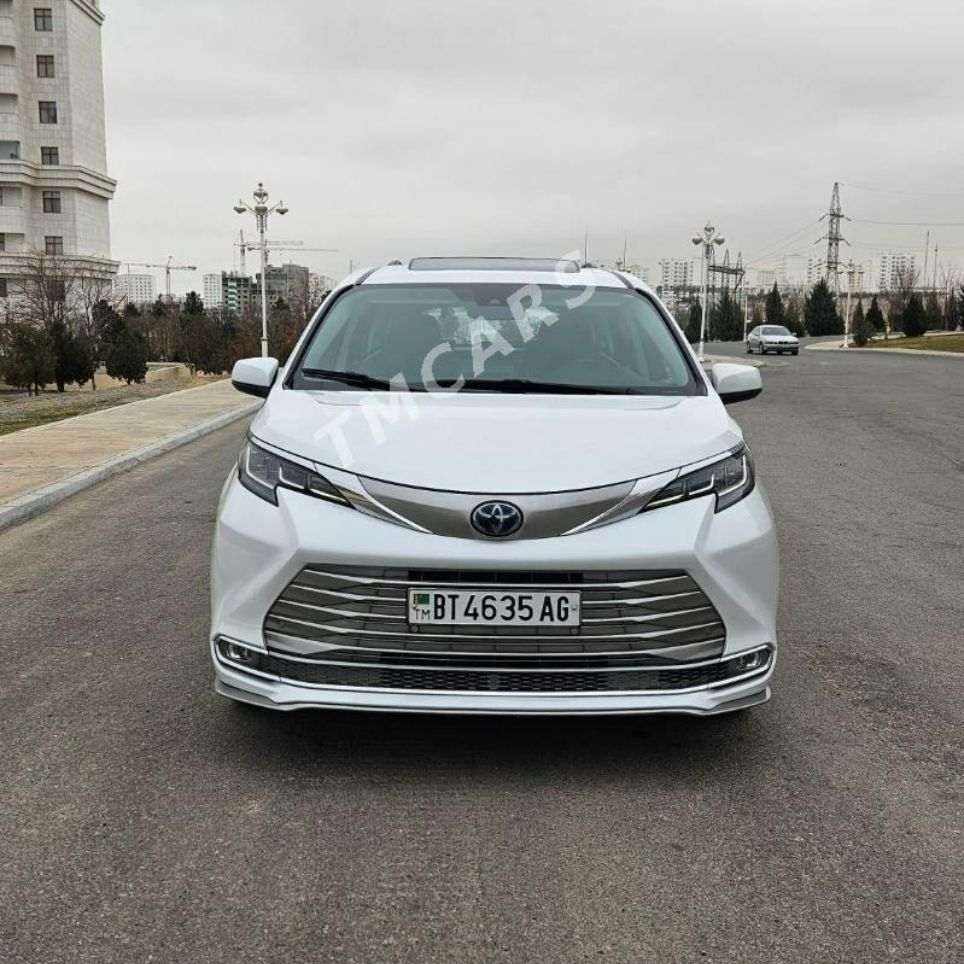license plate: (408, 588, 581, 627)
truck: (198, 246, 790, 747)
